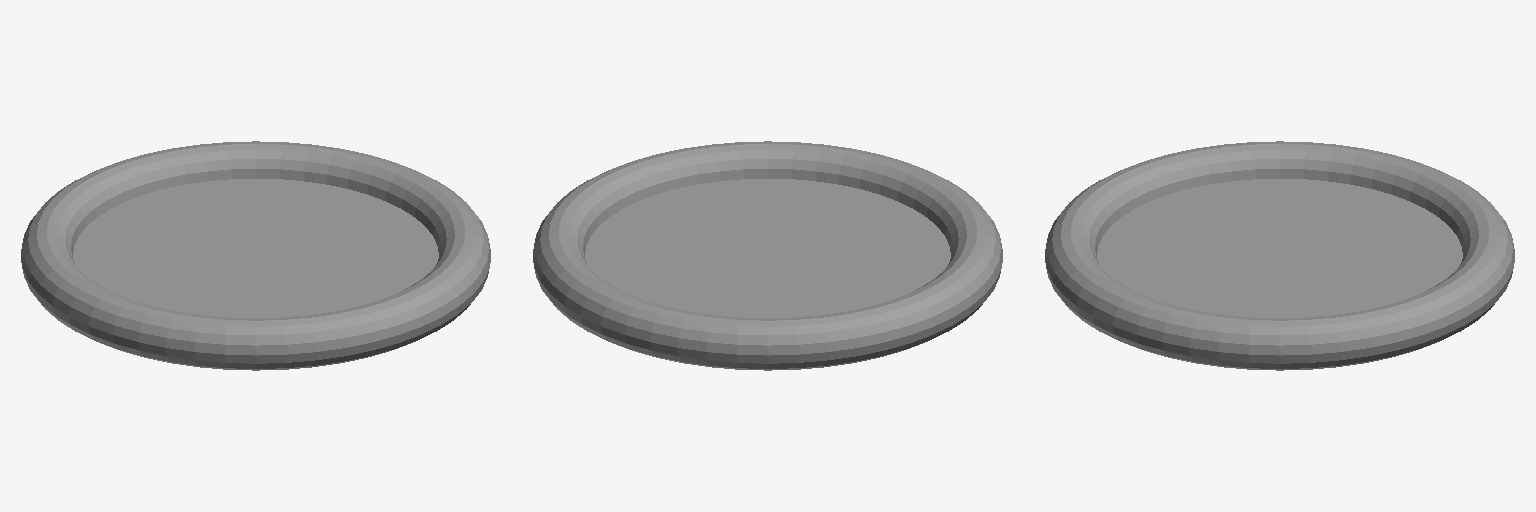
File: RedTarger.obj
The picture shows the model from 3 angles: view 1: azimuth 30°, elevation 25°; view 2: azimuth 150°, elevation 25°; view 3: azimuth 270°, elevation 25°; orthographic projection.
Visible parts, largest first — view 1: Torus; view 2: Torus; view 3: Torus.
Boxes of the visible parts, x1=… form: Torus: x1=21, y1=141, x2=490, y2=370; Torus: x1=533, y1=141, x2=1002, y2=370; Torus: x1=1045, y1=141, x2=1514, y2=370.
Size of the model in its own units: 4.5 by 0.5 by 4.5.